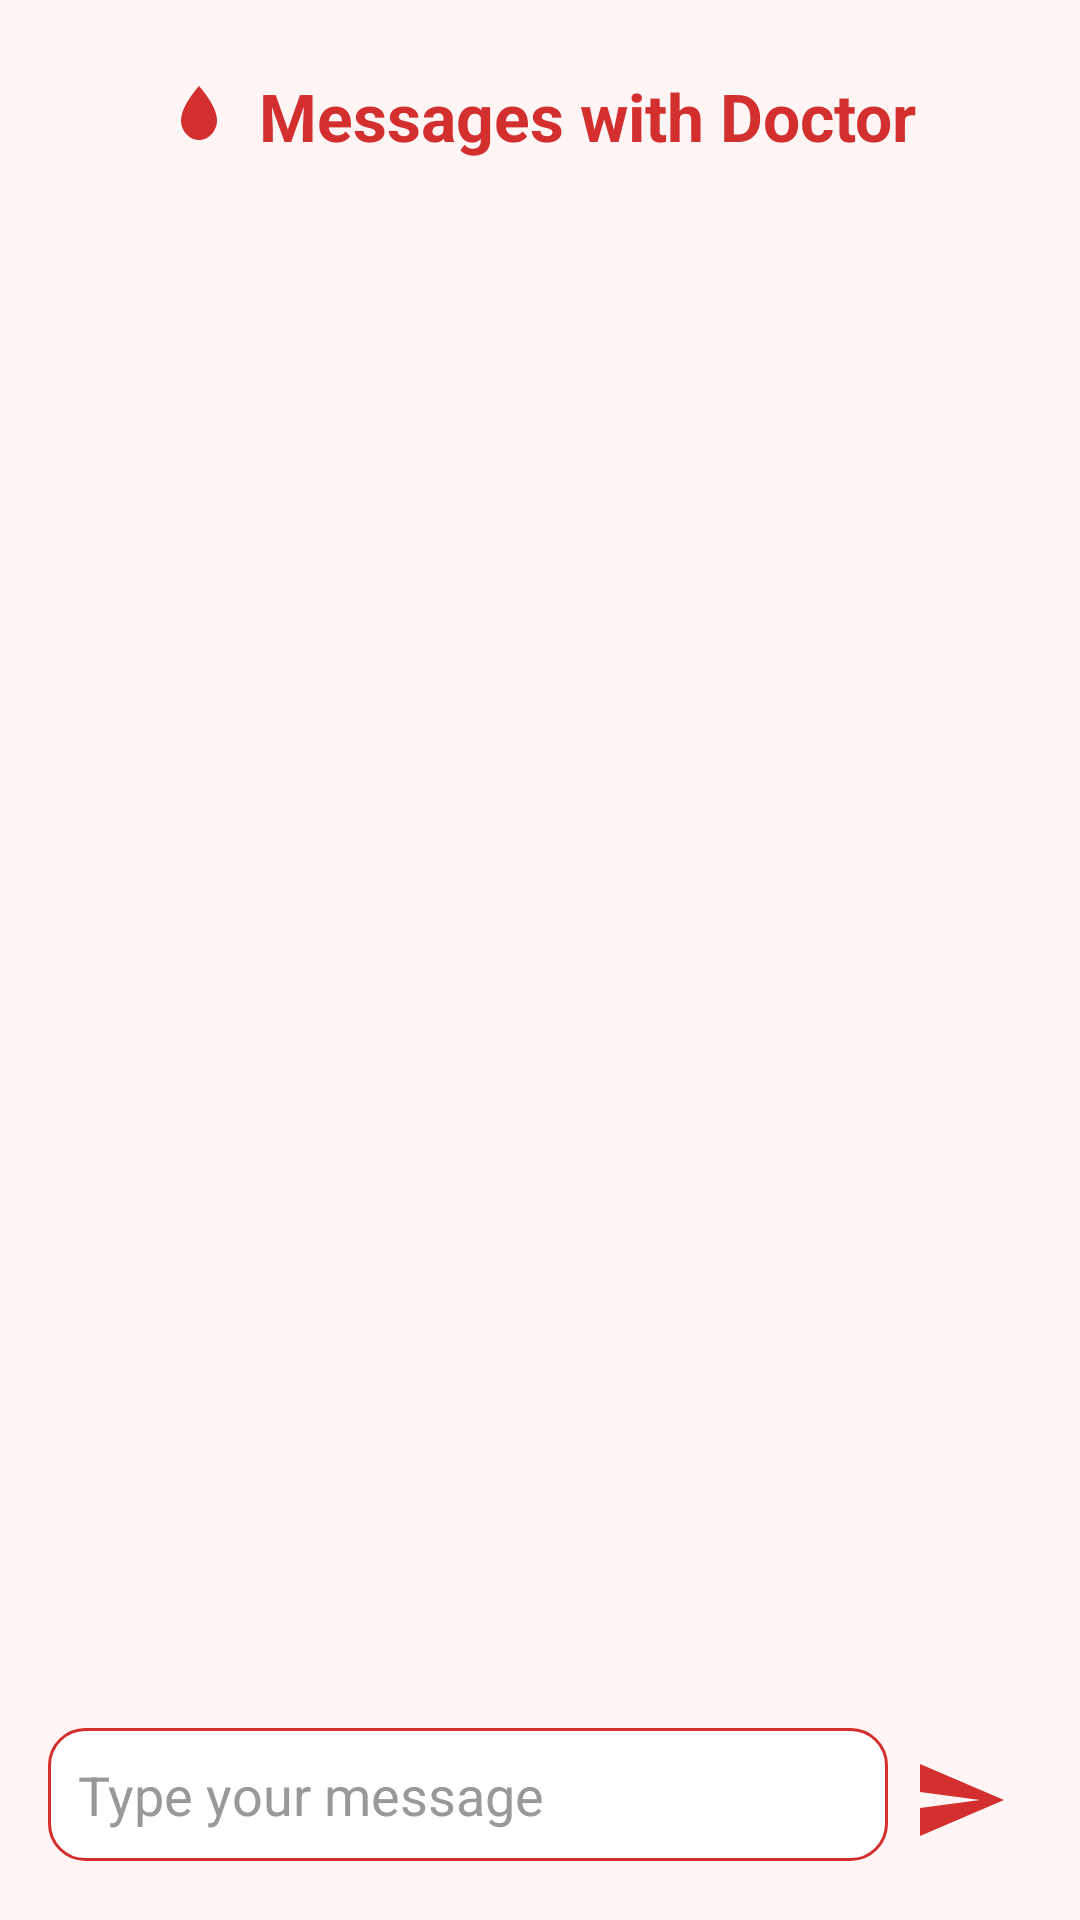

Icons on this 1080*1920 Android screen, each with the point to tap as point (x, y):
Send: point (962, 1800)
